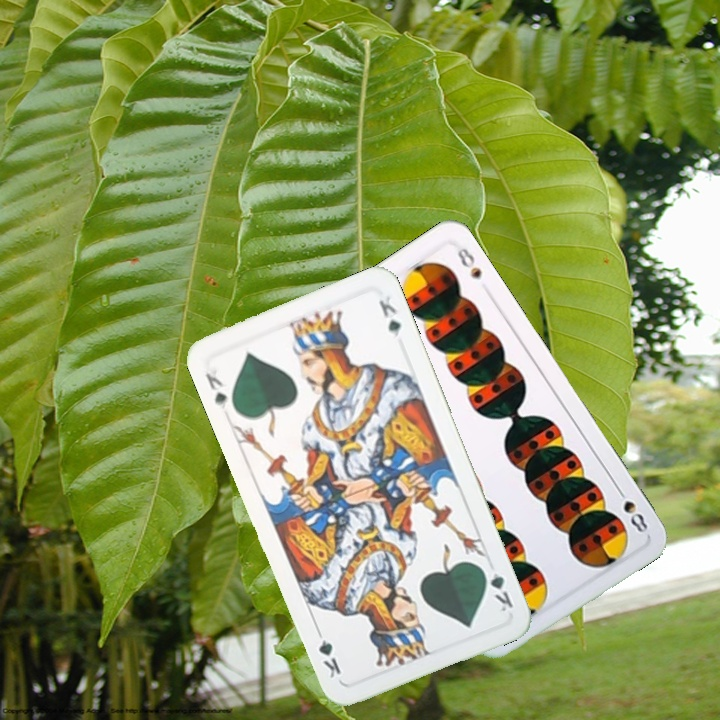GK: (477, 561, 516, 615), (201, 369, 230, 412)
S8: (612, 482, 654, 536)
